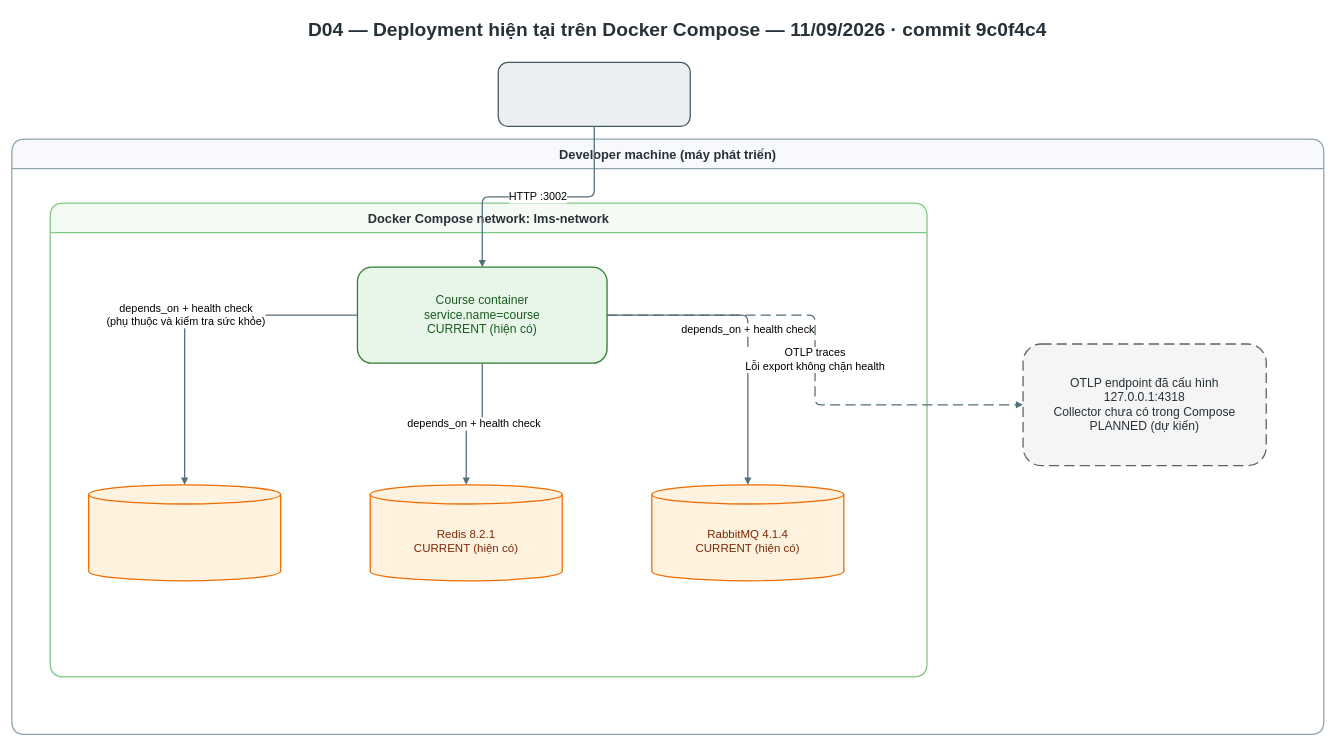
Some shapes in this 1341 by 746 pixel diagram are drawn without their labels. The shapes that lost their labels are listed below. From the top down, each one's centre as x and y in pixels, then its label:
At (x=594, y=94): "Local client (Máy khách cục bộ)".
At (x=184, y=532): "PostgreSQL 17.6 course_db CURRENT (hiện có)".
